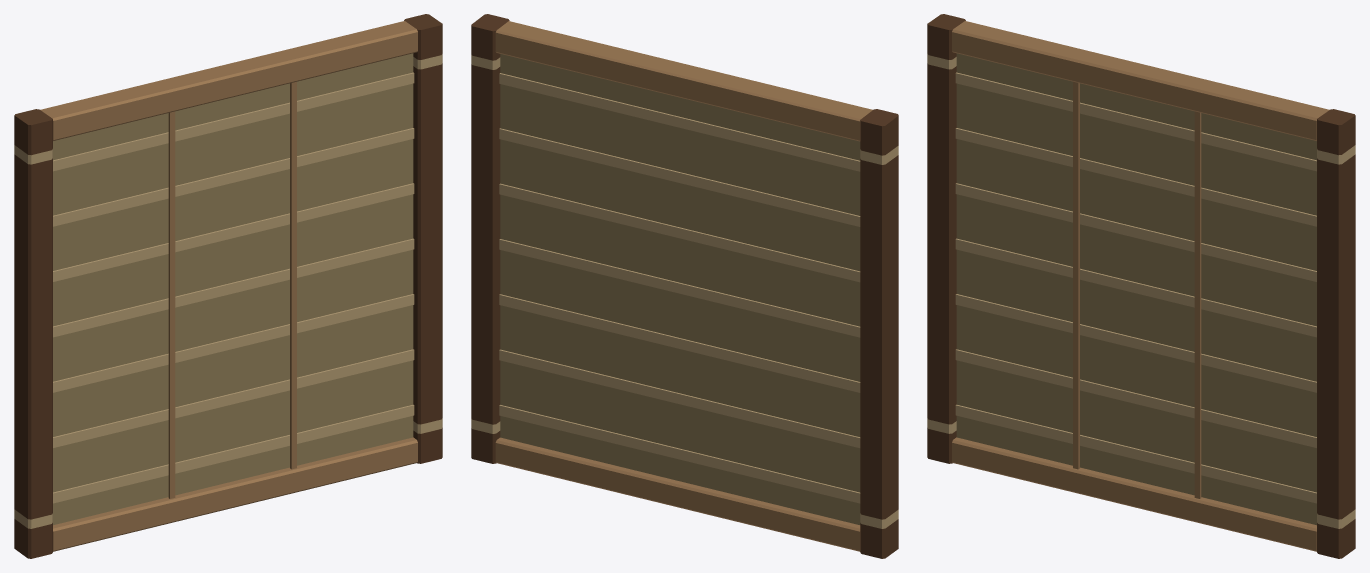
File: wall.glb
3 renders of one model, left to right at view 1: azimuth 30°, elevation 25°; view 2: azimuth 150°, elevation 25°; view 3: azimuth 330°, elevation 25°, orthographic.
Visible parts, largest first — view 1: wall_mesh; view 2: wall_mesh; view 3: wall_mesh.
Part boxes in pixels (bbox=[...]): wall_mesh: bbox=[14, 14, 442, 558]; wall_mesh: bbox=[471, 14, 898, 558]; wall_mesh: bbox=[927, 14, 1355, 558].
Size of the model in its own units: 3 by 3 by 0.2.
